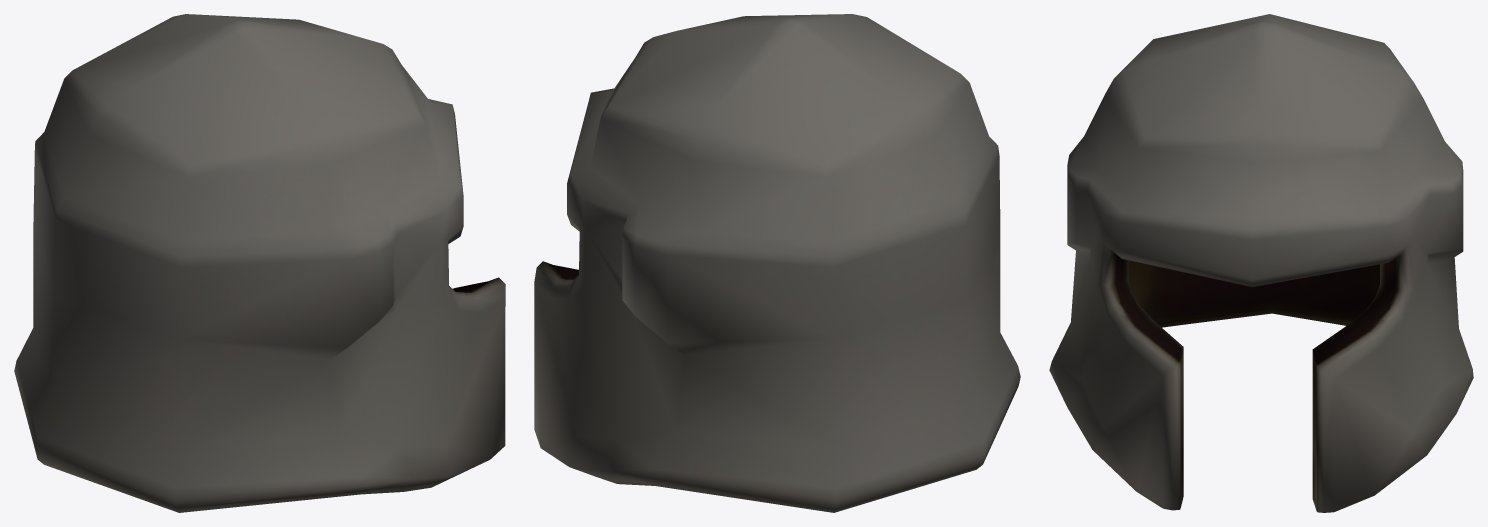
Rendered from starter_helm.glb.
The picture shows the model from 3 angles, left to right: view 1: azimuth 30°, elevation 25°; view 2: azimuth 150°, elevation 25°; view 3: azimuth 270°, elevation 25°; orthographic projection. The views are drawn at different scales.
Visible parts, largest first — view 1: tripo_node_d65ea03f-8034-4878-8c18-eae02cfd447f; view 2: tripo_node_d65ea03f-8034-4878-8c18-eae02cfd447f; view 3: tripo_node_d65ea03f-8034-4878-8c18-eae02cfd447f.
Boxes of the visible parts, <box> form: tripo_node_d65ea03f-8034-4878-8c18-eae02cfd447f: <box>14,14,505,512</box>; tripo_node_d65ea03f-8034-4878-8c18-eae02cfd447f: <box>534,14,1020,512</box>; tripo_node_d65ea03f-8034-4878-8c18-eae02cfd447f: <box>1049,14,1473,512</box>.
Bounding box in the file's own units: 0.998 × 0.998 × 0.9629.
1 material, 1 textured.
